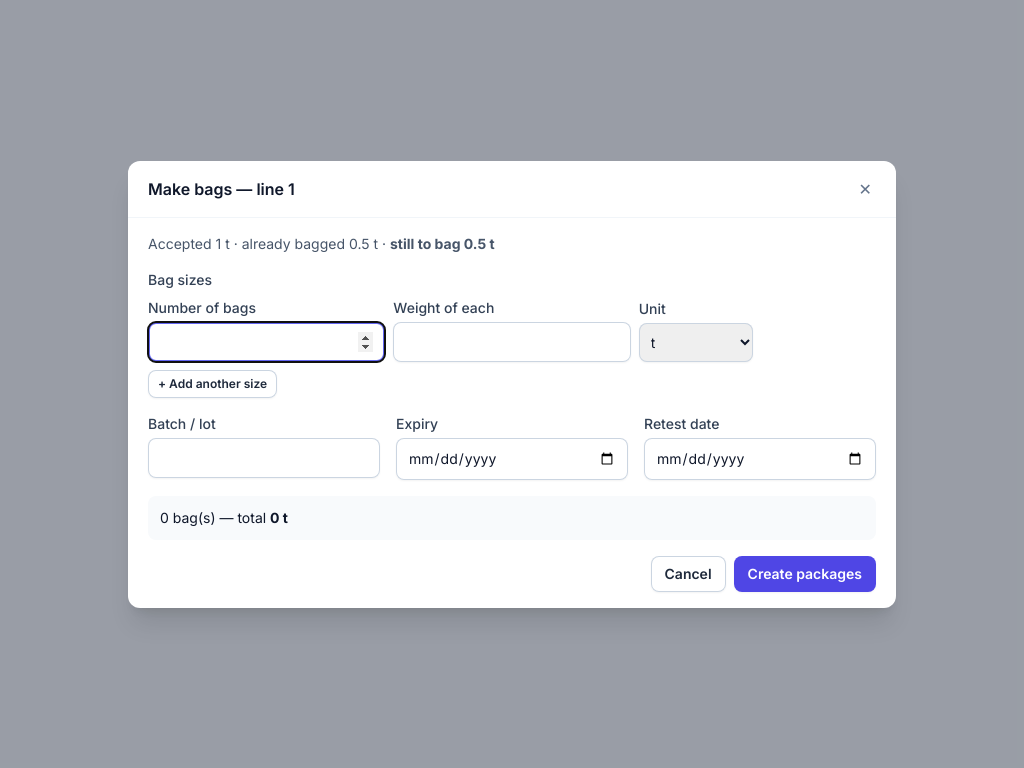
Bags of different sizes › refuses more than is still to bag
The image size is (1024, 768).
Type "2" into the number field labelled "Number of bags" at (267, 342), box [148, 322, 385, 362]
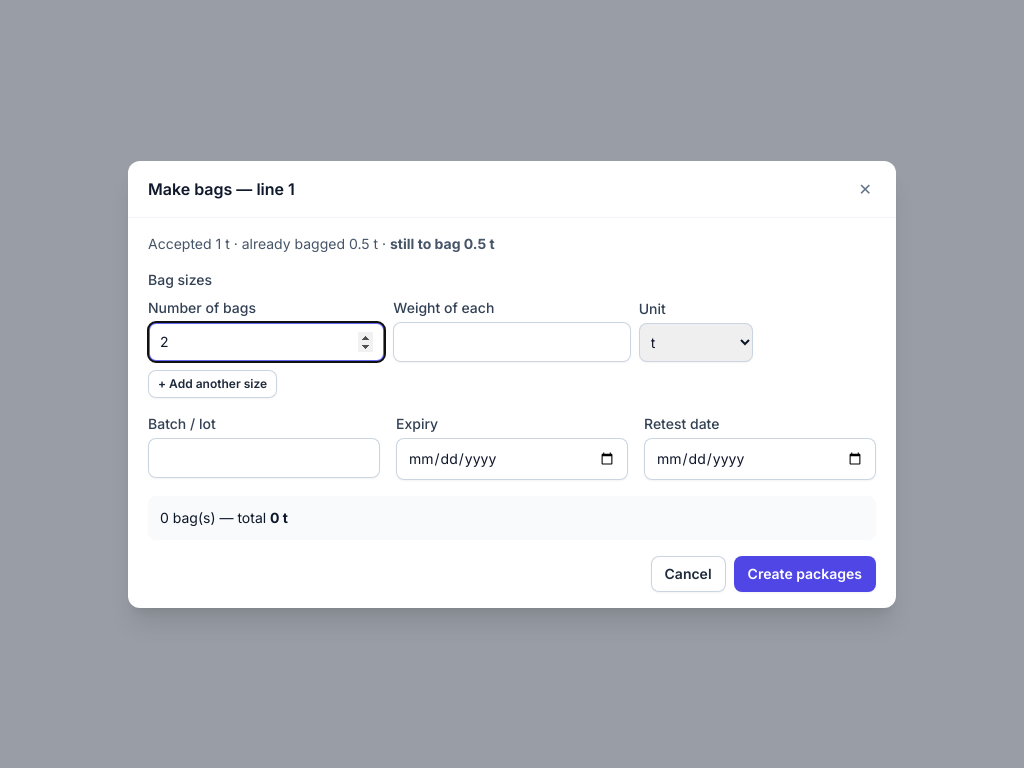
Type "0.5" into the number field labelled "Weight of each" at (512, 342), box [393, 322, 631, 362]
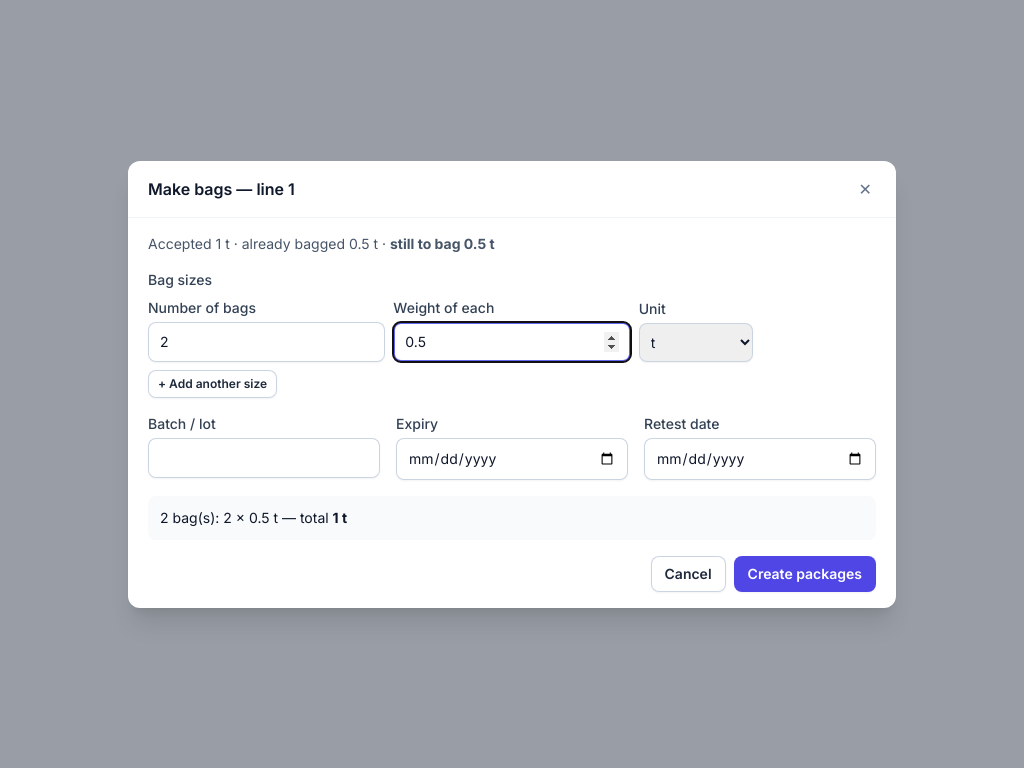
Click the button "Create packages" at (805, 574), box [734, 556, 876, 592]
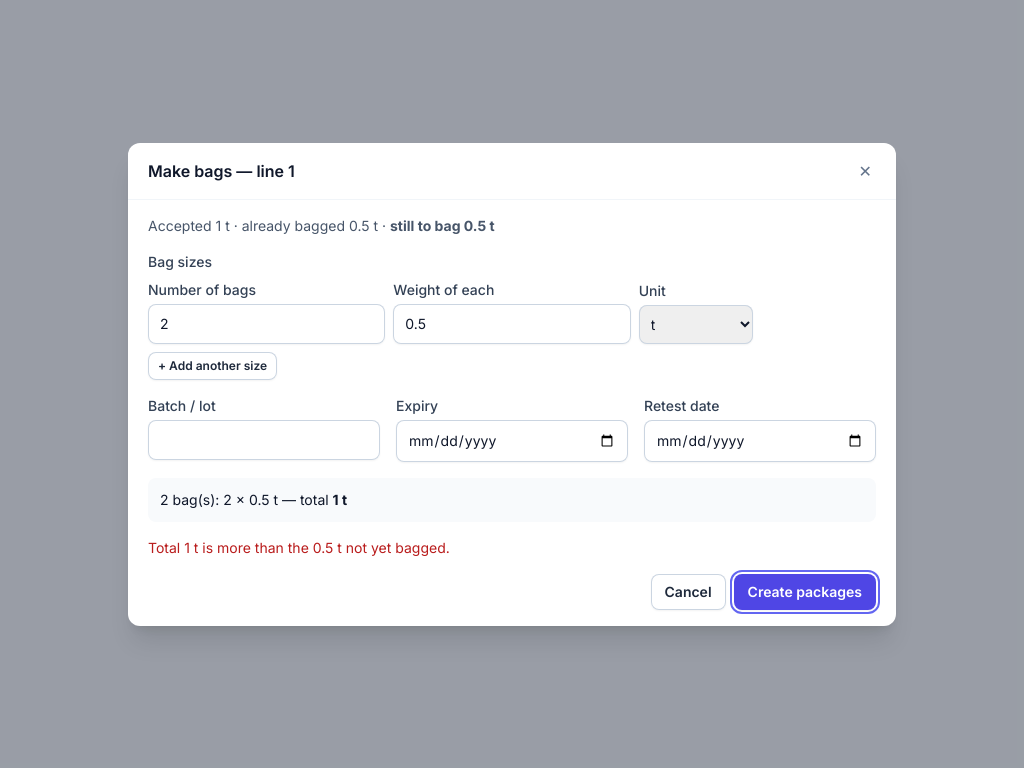
Result: the message shows "more than the 0.5 t not yet bagged" at [148, 538, 450, 556]
